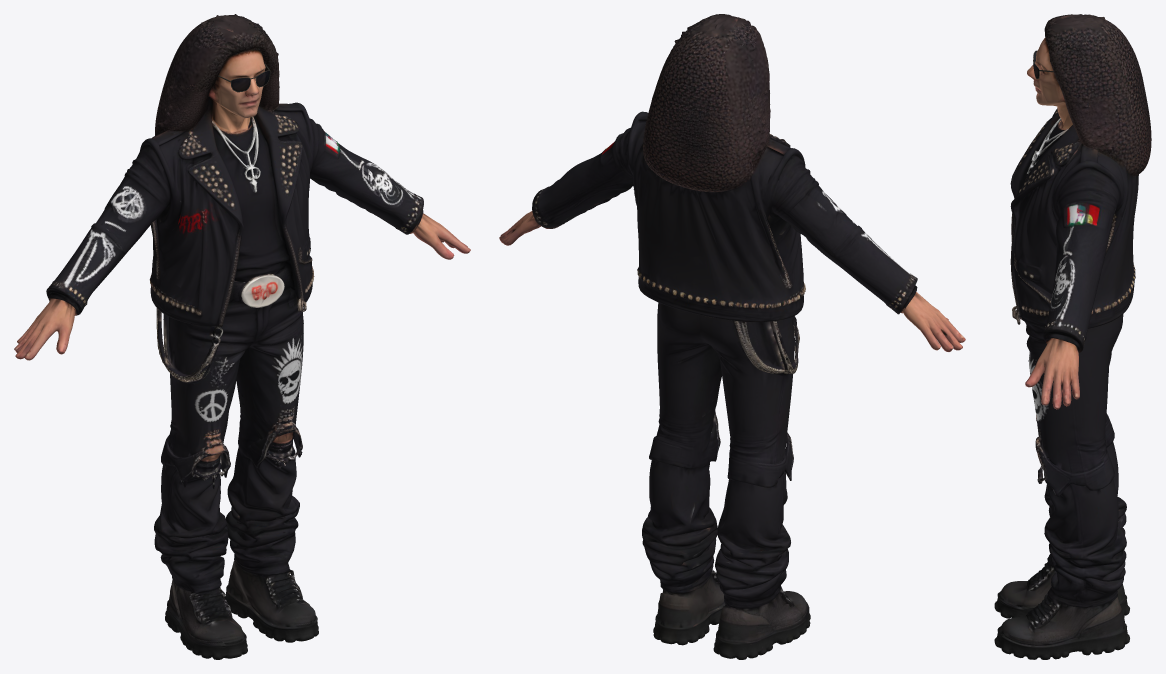
File: AlexLLora.glb
3 renders of one model, left to right at view 1: azimuth 30°, elevation 25°; view 2: azimuth 150°, elevation 25°; view 3: azimuth 270°, elevation 25°, orthographic. The views are drawn at different scales.
Parts seen in each view (by area): view 1: Mesh_0.003; view 2: Mesh_0.003; view 3: Mesh_0.003.
Boxes of the visible parts, x1,y1,x2,y2 form: Mesh_0.003: [14, 14, 470, 659]; Mesh_0.003: [499, 14, 965, 659]; Mesh_0.003: [994, 14, 1151, 659].
Size of the model in its own units: 1.35 by 1.72 by 0.3992.
Materials: 3 (3 with a texture image).
